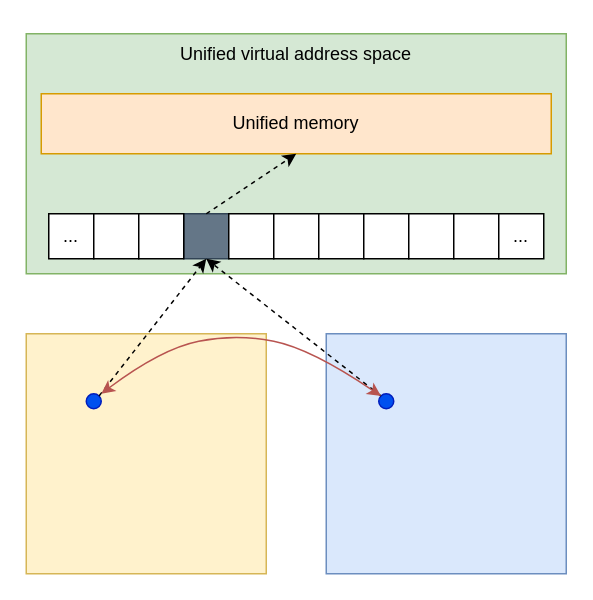
Image size: 593x600. Some labels were removed from this diagram. The centre of each missing label's shape, as x and y in pixels:
"Co-processor" goes at [445,453].
"Host" goes at [145,453].
